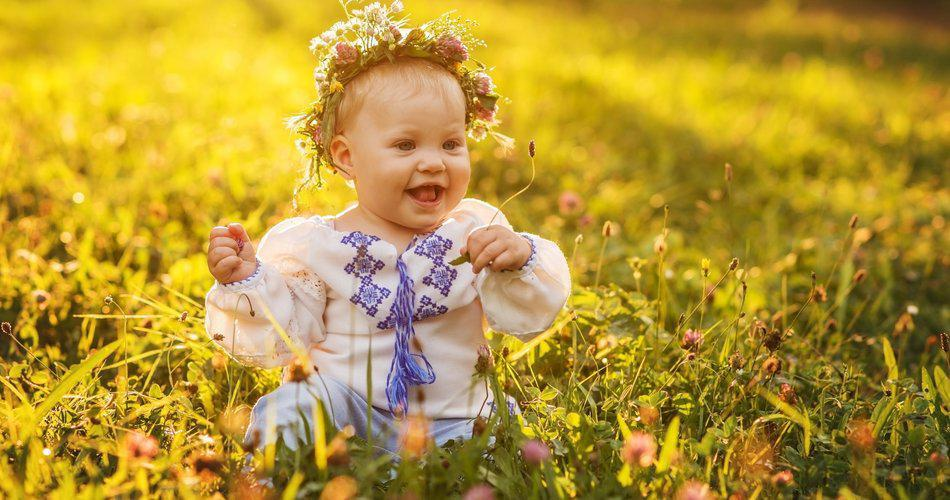child: (157, 15, 580, 461)
